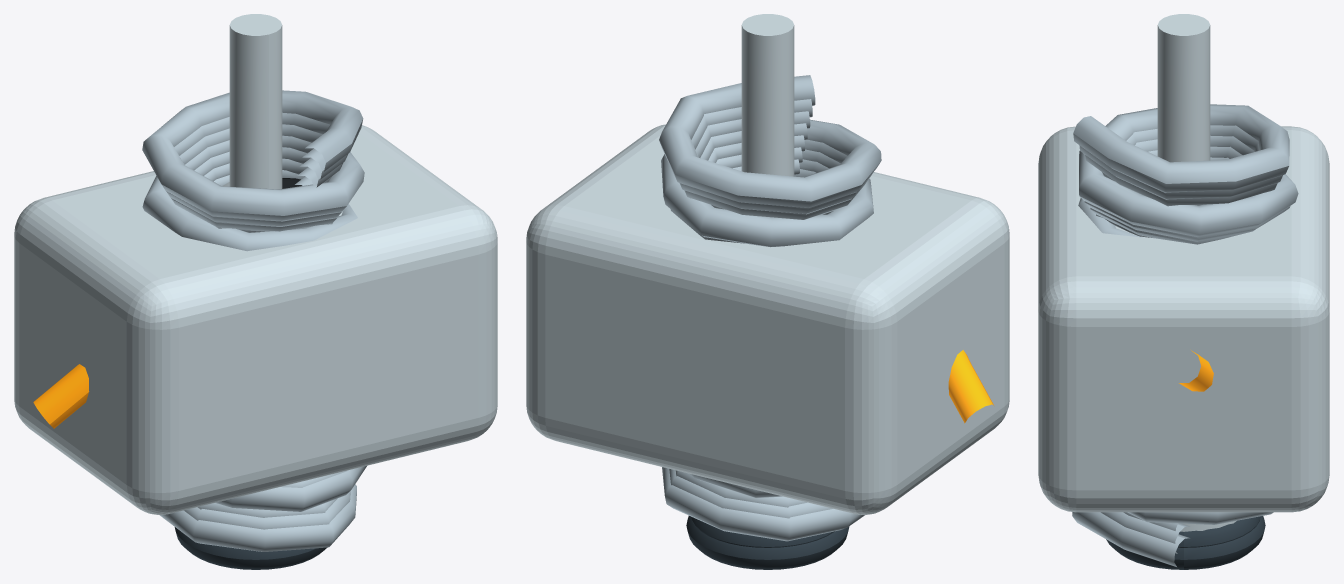
File: remaining_systems_01.glb
3 views of the same model, side by side, from view 1: azimuth 30°, elevation 25°; view 2: azimuth 150°, elevation 25°; view 3: azimuth 270°, elevation 25° (orthographic).
Visible parts, largest first — view 1: asset_mesh__remaining_systems_0008__reference_body, asset_mesh__remaining_systems_0044__coil_spring, asset_mesh__remaining_systems_0134__piston_rod, asset_mesh__remaining_systems_0043__coil_spring, asset_mesh__remaining_systems_0042__coil_spring, asset_mesh__remaining_systems_0134__lower_eye, asset_mesh__remaining_systems_0014__fluid_path, asset_mesh__remaining_systems_0041__coil_spring, asset_mesh__remaining_systems_0040__coil_spring; view 2: asset_mesh__remaining_systems_0008__reference_body, asset_mesh__remaining_systems_0044__coil_spring, asset_mesh__remaining_systems_0134__piston_rod, asset_mesh__remaining_systems_0043__coil_spring, asset_mesh__remaining_systems_0134__lower_eye, asset_mesh__remaining_systems_0042__coil_spring, asset_mesh__remaining_systems_0014__fluid_path, asset_mesh__remaining_systems_0025__lower_eye, asset_mesh__remaining_systems_0041__coil_spring, asset_mesh__remaining_systems_0040__coil_spring; view 3: asset_mesh__remaining_systems_0008__reference_body, asset_mesh__remaining_systems_0044__coil_spring, asset_mesh__remaining_systems_0134__piston_rod, asset_mesh__remaining_systems_0043__coil_spring, asset_mesh__remaining_systems_0042__coil_spring, asset_mesh__remaining_systems_0134__lower_eye, asset_mesh__remaining_systems_0025__lower_eye, asset_mesh__remaining_systems_0014__fluid_path, asset_mesh__remaining_systems_0041__coil_spring.
Boxes of the visible parts, x1,y1,x2,y2 form: asset_mesh__remaining_systems_0008__reference_body: [14, 125, 497, 514]; asset_mesh__remaining_systems_0044__coil_spring: [142, 90, 366, 551]; asset_mesh__remaining_systems_0134__piston_rod: [229, 14, 282, 189]; asset_mesh__remaining_systems_0043__coil_spring: [166, 112, 350, 529]; asset_mesh__remaining_systems_0042__coil_spring: [171, 124, 343, 517]; asset_mesh__remaining_systems_0134__lower_eye: [174, 527, 326, 569]; asset_mesh__remaining_systems_0014__fluid_path: [33, 364, 89, 428]; asset_mesh__remaining_systems_0041__coil_spring: [185, 135, 332, 232]; asset_mesh__remaining_systems_0040__coil_spring: [194, 147, 312, 185]; asset_mesh__remaining_systems_0008__reference_body: [526, 124, 1009, 514]; asset_mesh__remaining_systems_0044__coil_spring: [659, 75, 881, 541]; asset_mesh__remaining_systems_0134__piston_rod: [741, 14, 794, 176]; asset_mesh__remaining_systems_0043__coil_spring: [669, 99, 872, 518]; asset_mesh__remaining_systems_0134__lower_eye: [686, 516, 849, 569]; asset_mesh__remaining_systems_0042__coil_spring: [675, 111, 866, 507]; asset_mesh__remaining_systems_0014__fluid_path: [948, 350, 993, 423]; asset_mesh__remaining_systems_0025__lower_eye: [691, 517, 834, 547]; asset_mesh__remaining_systems_0041__coil_spring: [700, 123, 836, 214]; asset_mesh__remaining_systems_0040__coil_spring: [708, 135, 816, 177]; asset_mesh__remaining_systems_0008__reference_body: [1038, 126, 1329, 512]; asset_mesh__remaining_systems_0044__coil_spring: [1072, 104, 1298, 566]; asset_mesh__remaining_systems_0134__piston_rod: [1157, 14, 1210, 162]; asset_mesh__remaining_systems_0043__coil_spring: [1079, 125, 1290, 553]; asset_mesh__remaining_systems_0042__coil_spring: [1085, 135, 1277, 530]; asset_mesh__remaining_systems_0134__lower_eye: [1106, 516, 1265, 569]; asset_mesh__remaining_systems_0025__lower_eye: [1178, 516, 1260, 547]; asset_mesh__remaining_systems_0014__fluid_path: [1179, 350, 1213, 391]; asset_mesh__remaining_systems_0041__coil_spring: [1096, 146, 1242, 237].
Size of the model in its own units: 1.47 by 1.64 by 0.84.
